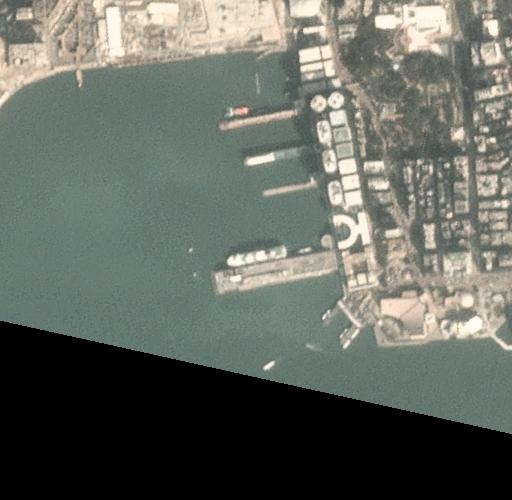ship: (226, 239, 286, 261), (226, 104, 252, 117), (263, 359, 277, 370), (321, 308, 332, 319), (339, 327, 349, 339), (352, 329, 361, 339), (342, 340, 351, 350), (305, 343, 312, 349)
